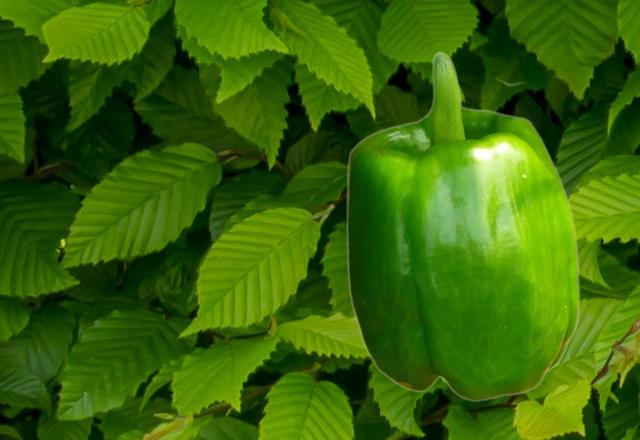bell_pepper: (345, 51, 579, 401)
